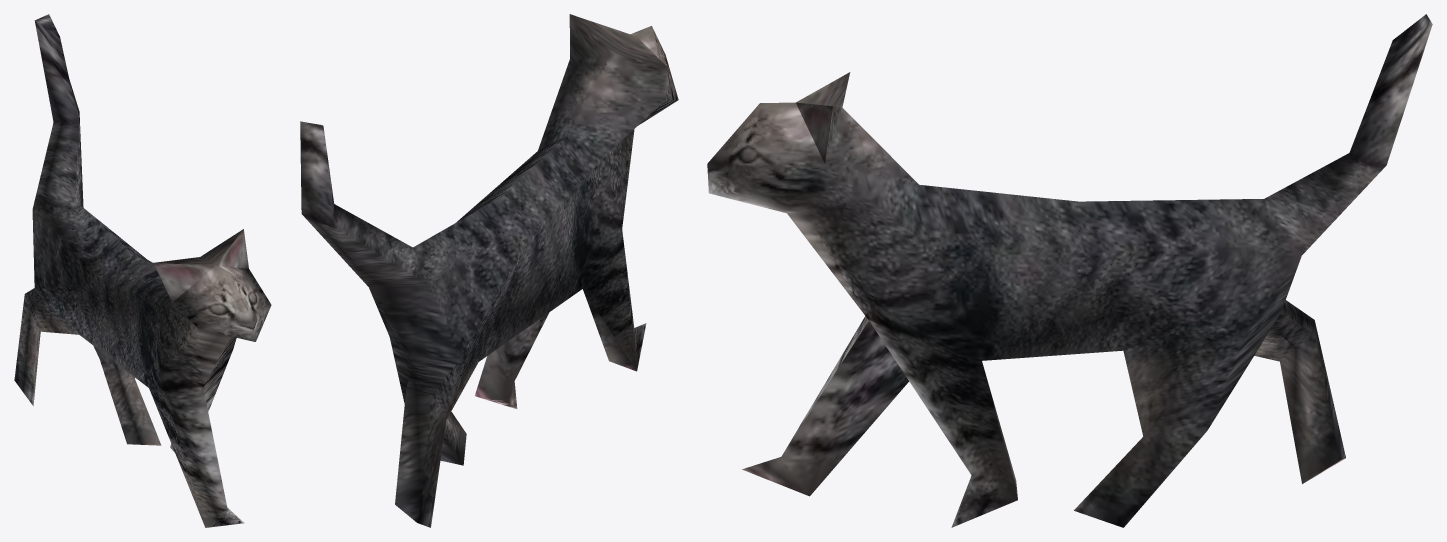
The model's file is cat.glb.
3 views of the same model, side by side, from view 1: azimuth 30°, elevation 25°; view 2: azimuth 150°, elevation 25°; view 3: azimuth 270°, elevation 25° (orthographic). The views are drawn at different scales.
Visible parts, largest first — view 1: Cube.001; view 2: Cube.001; view 3: Cube.001.
Part boxes in pixels (x1=…): Cube.001: x1=14, y1=14, x2=271, y2=527; Cube.001: x1=300, y1=14, x2=678, y2=527; Cube.001: x1=707, y1=14, x2=1432, y2=527.
Bounding box in the file's own units: 0.7205 × 2.19 × 2.82.
1 material, 1 textured.
